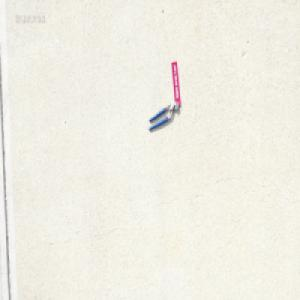Label: (170, 60, 181, 106)
Pliers: (147, 101, 178, 131)
